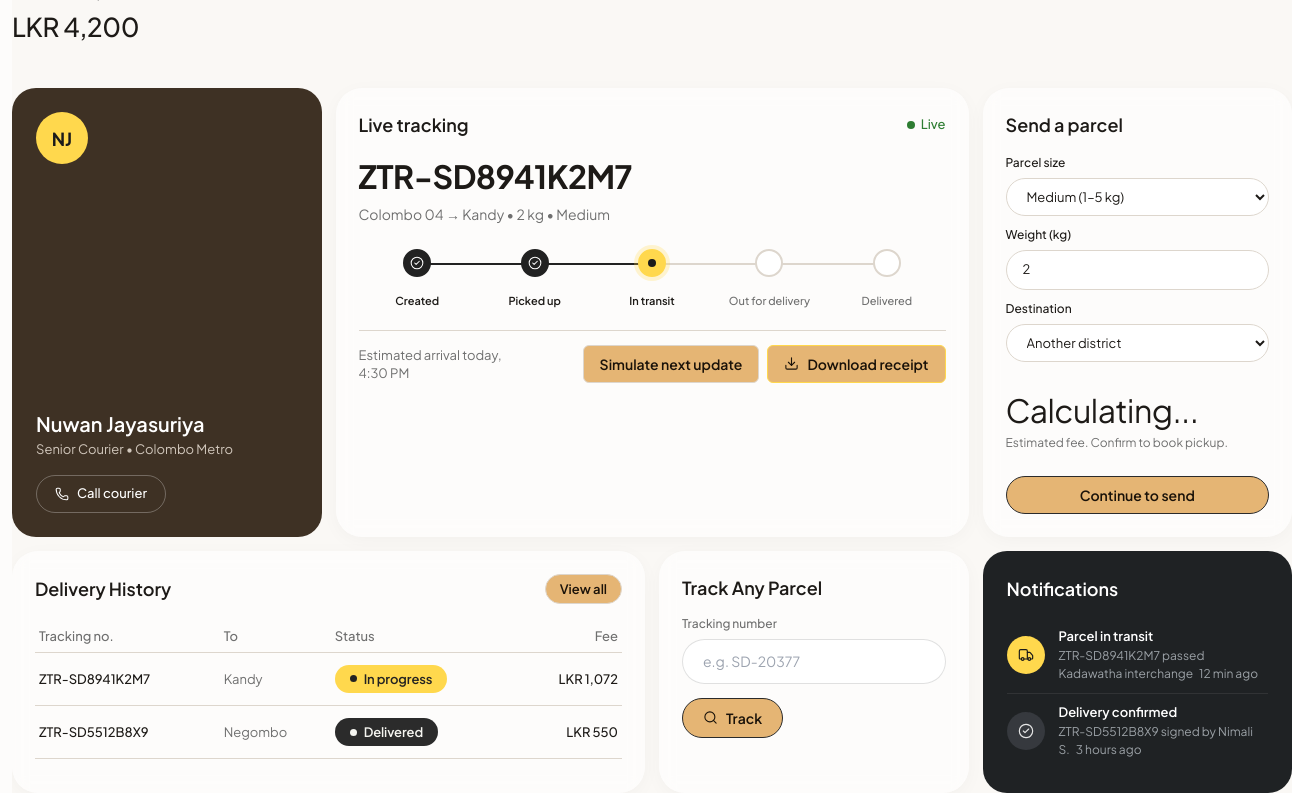
Test case: CustomerDashboard Page › allows tracking any parcel via the Track Any Parcel card
(page scrolled)
expect the text "Track Any Parcel" is shown: met, box [682,576,822,599]
Type "ZTR-SD9999K001" into the field with placeholder "e.g. SD-20377". click: (814, 661)
box: [682,639,946,684]
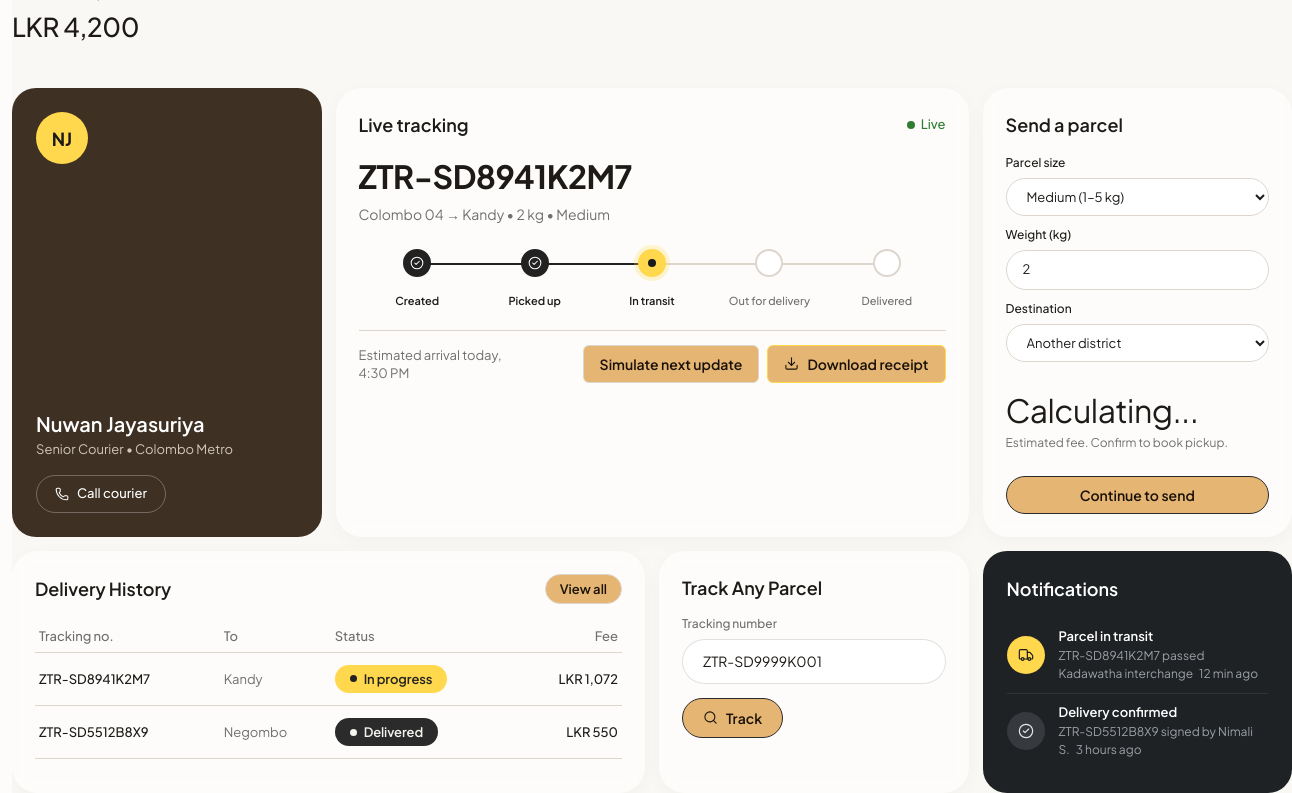
Click the button with aria-label "Track parcel". click: (733, 718)
box: [682,698,783,738]
(page scrolled)
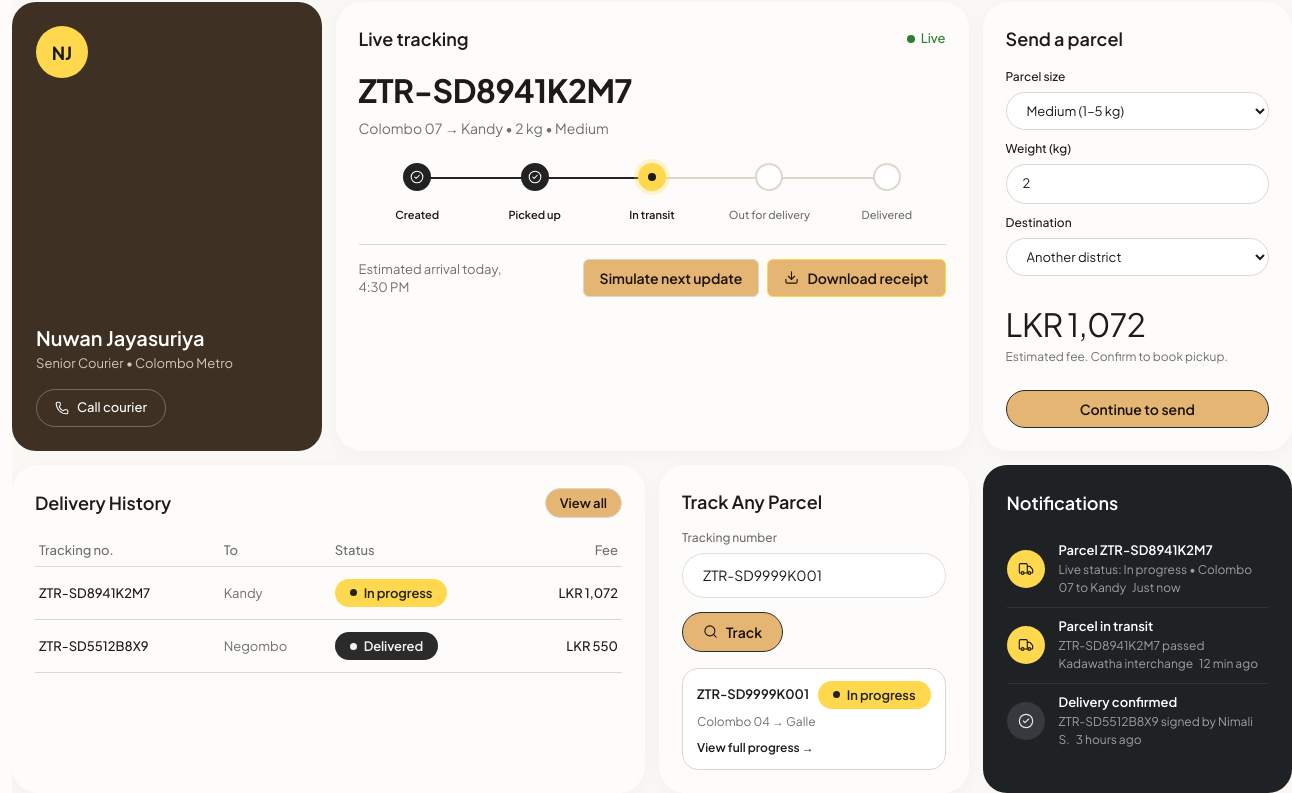
expect the text "Colombo 04 → Galle" is shown: met, box [697,714,816,729]
expect the link "View full progress →" is shown: met, box [697,739,814,757]
